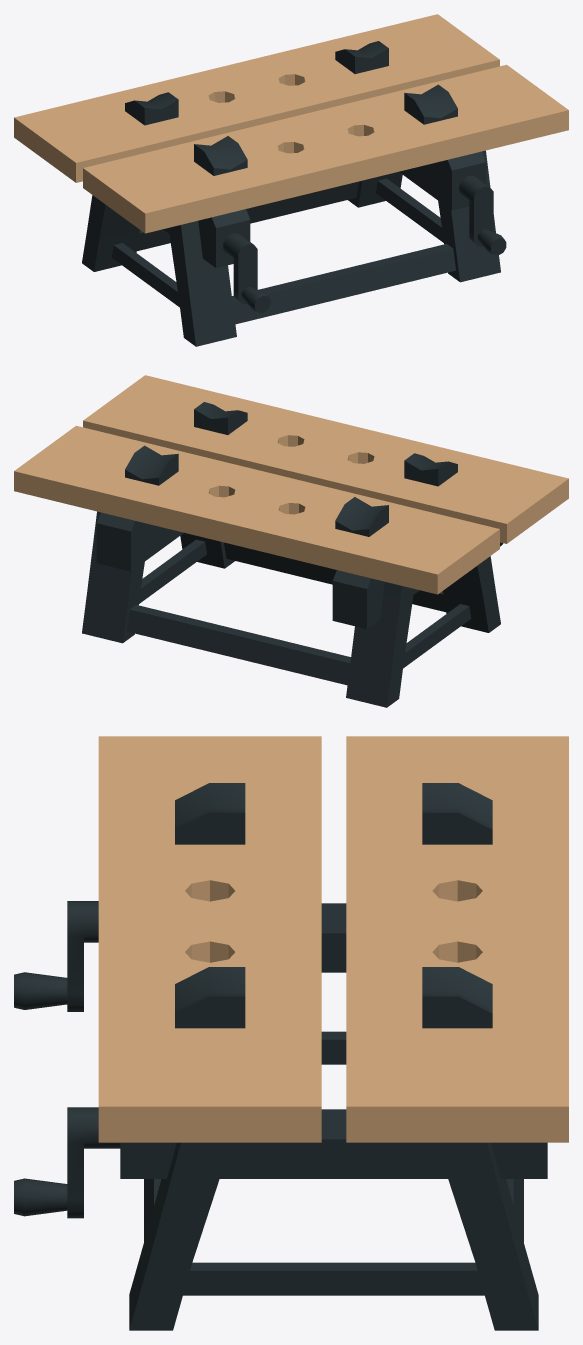
Rendered from workmate.gltf.glb.
3 renders of one model, top to bottom at view 1: azimuth 30°, elevation 25°; view 2: azimuth 150°, elevation 25°; view 3: azimuth 270°, elevation 25°, orthographic. The views are drawn at different scales.
Visible parts, largest first — view 1: workmate; view 2: workmate; view 3: workmate.
Part boxes in pixels (box(x1,y1,x2,y2)): workmate: box(14, 14, 568, 346); workmate: box(14, 375, 568, 707); workmate: box(14, 736, 568, 1330).
Size of the model in its own units: 1.59 by 0.6169 by 1.01.
